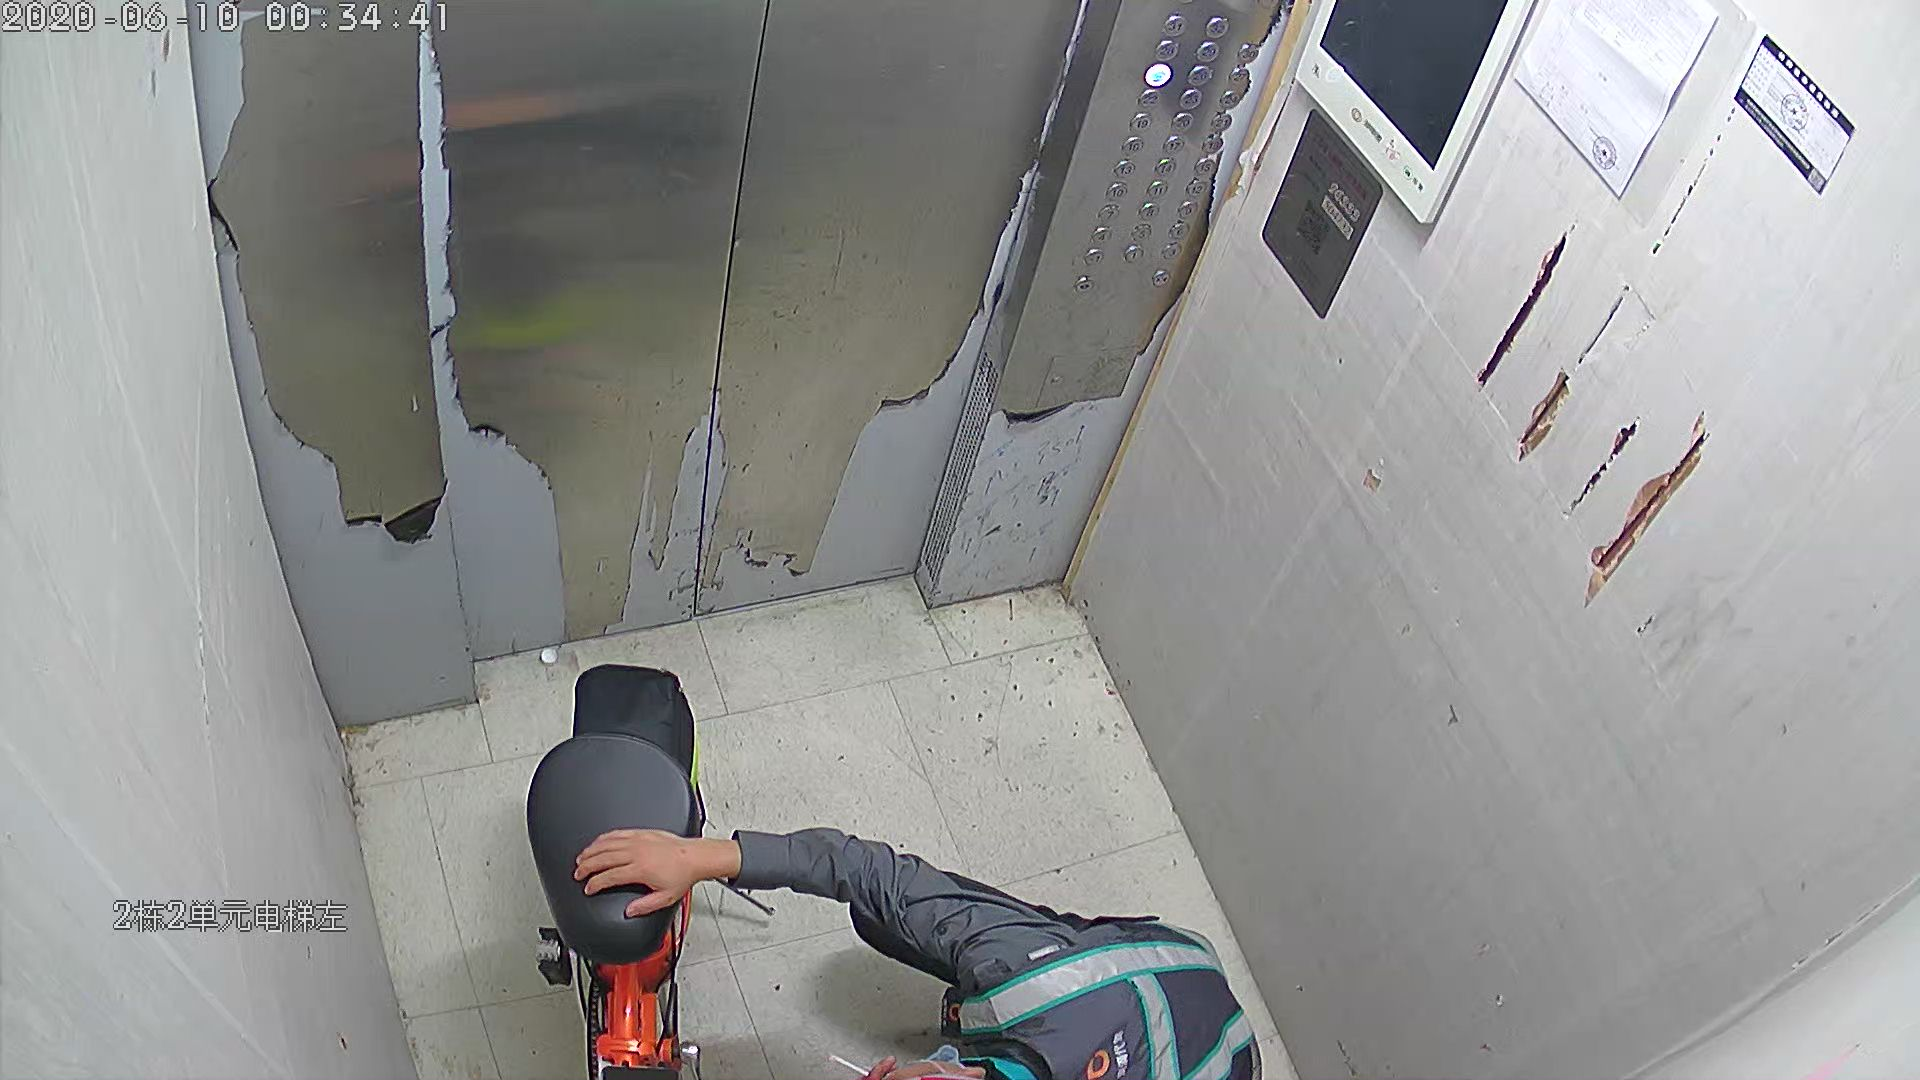Electric-bicycle: (508, 663, 727, 1068)
